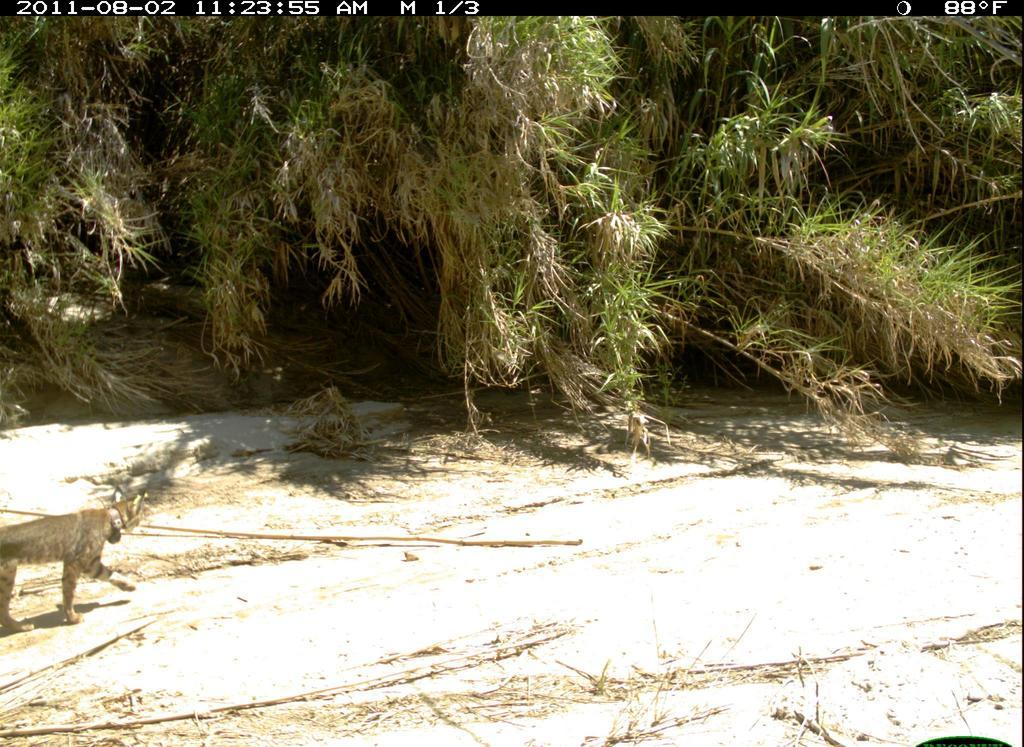bobcat: (5, 479, 169, 631)
